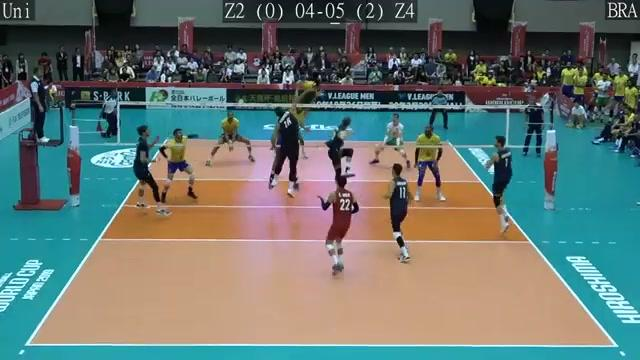ball: (301, 78, 317, 93)
